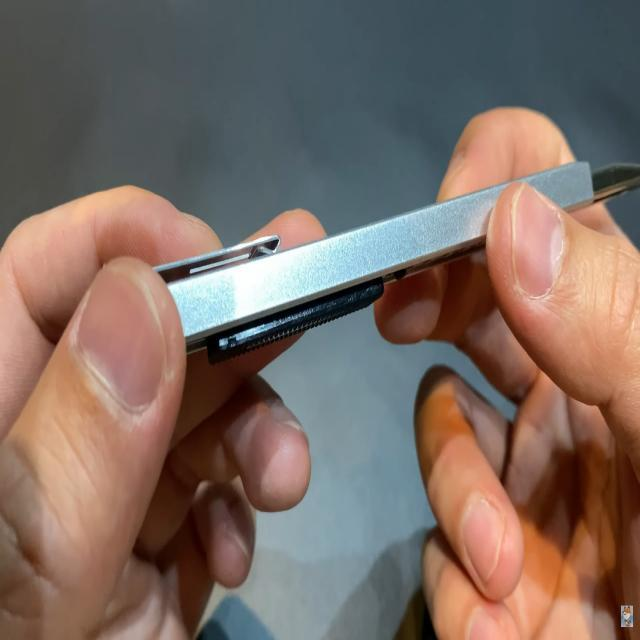cutter: (28, 88, 640, 506)
